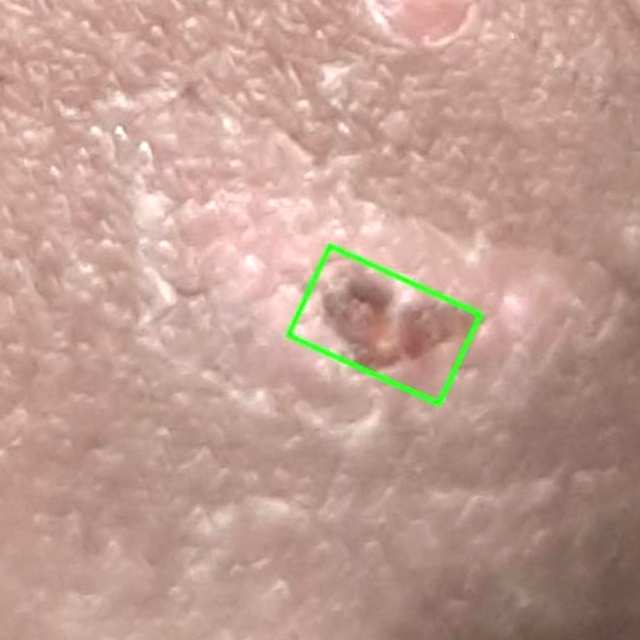Contact Dermatitis: (289, 246, 480, 404)
